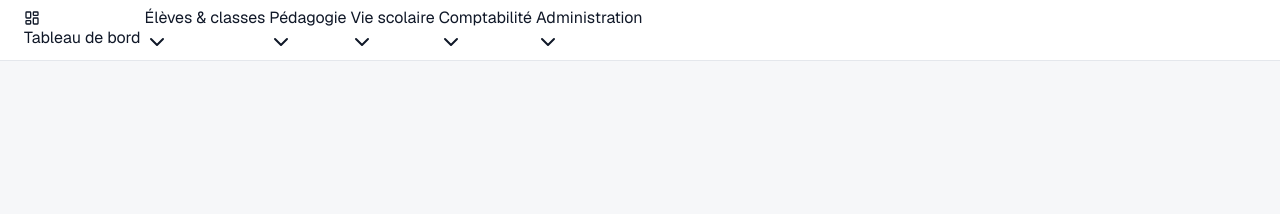
Test: HorizontalNav › opens one group at a time
Click the button "Pédagogie".
click(308, 30)  # box [269, 6, 346, 54]
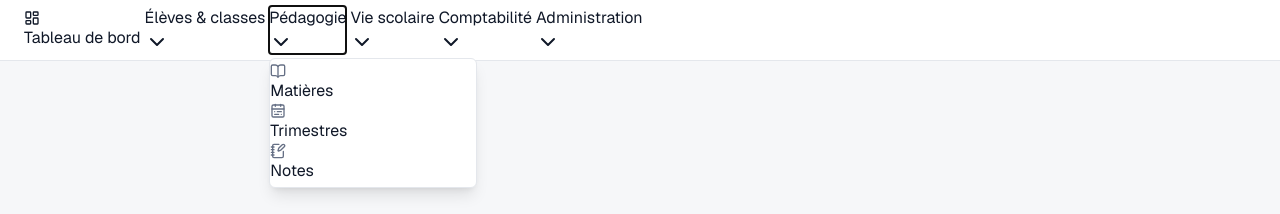
Click the button "Administration".
click(589, 30)  # box [536, 6, 642, 54]
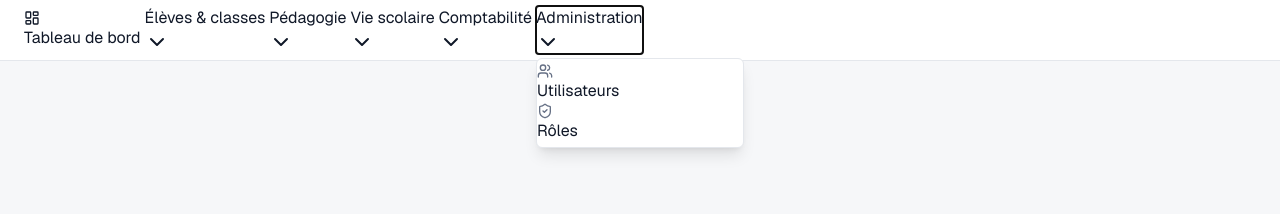
Now the link "Notes" is gone
